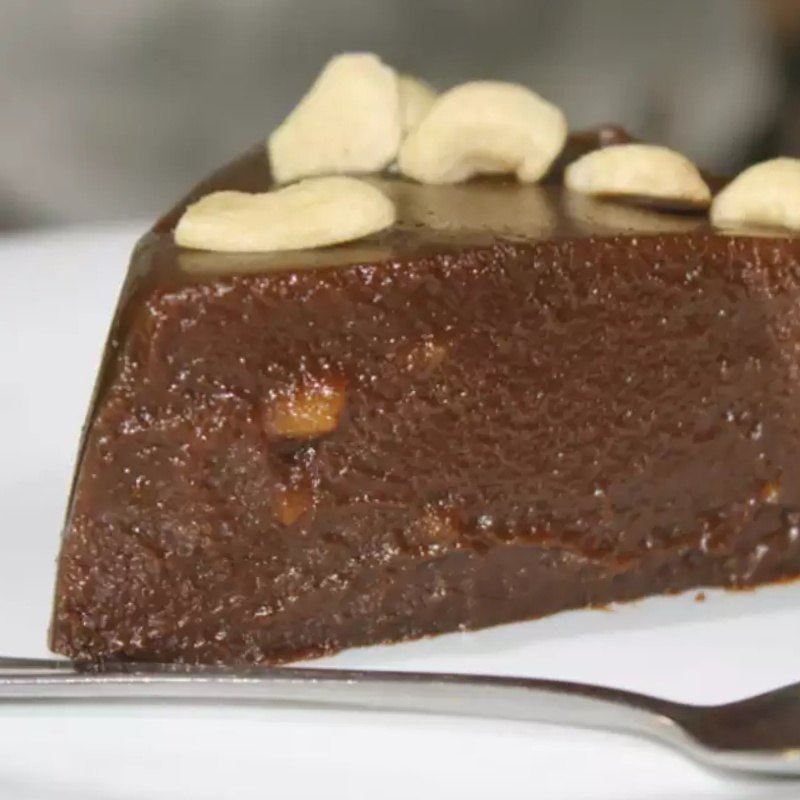dodol: (31, 27, 800, 678)
